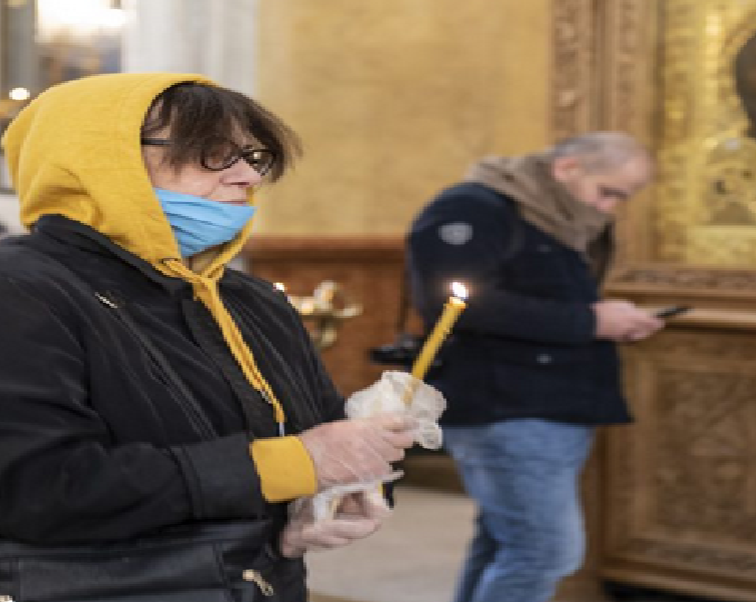mask_weared_incorrect: (10, 72, 281, 257)
